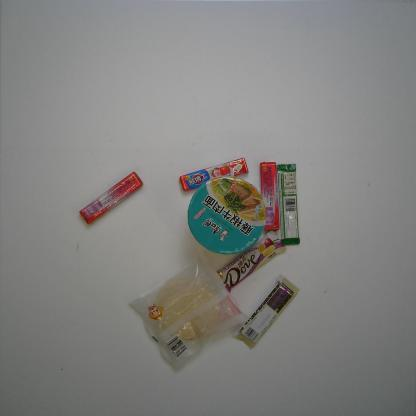Candy: (78, 171, 144, 226), (177, 156, 249, 194), (258, 160, 282, 234)
Chocolate: (202, 229, 286, 298), (230, 273, 302, 351), (276, 162, 301, 247)
Dessert: (127, 255, 250, 372)
Instant Noodles: (185, 175, 268, 255)
